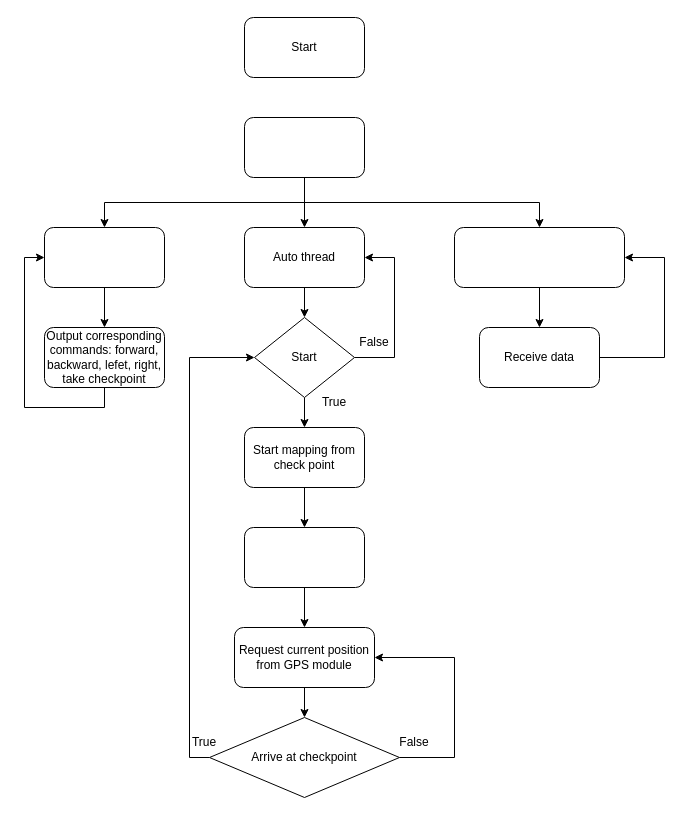
The diagram is 690 pixels wide and 815 high, and some of its shapes have lost their labels. Each missing label, with the centre of its shape:
Manual thread: the point at 104,257
Server communication thread: the point at 539,257
Start PID and Stanley controller: the point at 304,557
Start threads: the point at 304,147
